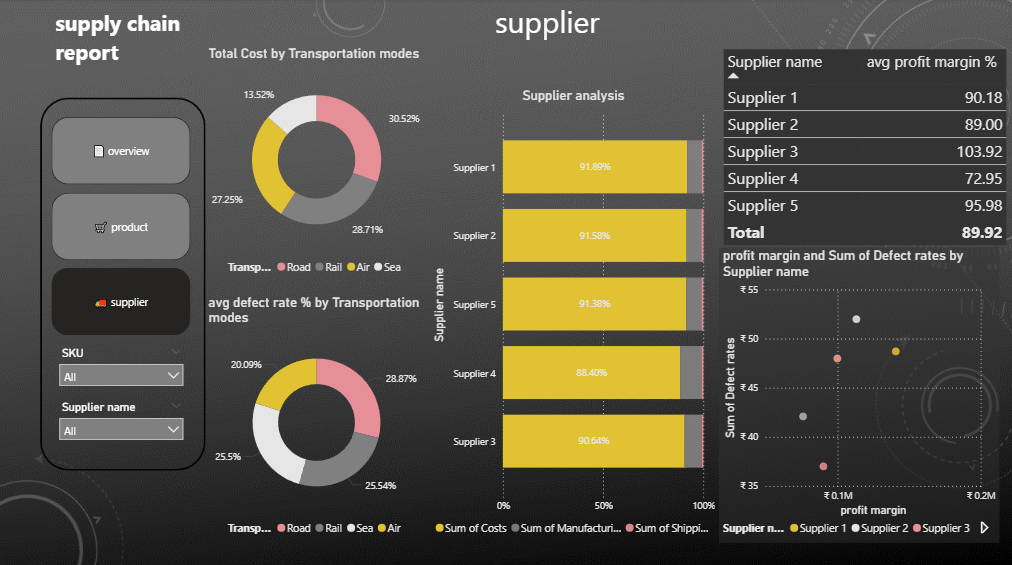

The dashboard page shown, as its layout file describes it:
{"tool":"powerbi","page":{"name":"🚚 supplier","canvas":[1280,720],"ordinal":2},"visuals":[{"type":"donutChart","fields":{"Y":["supply_chain_data.Total Cost"],"Category":["supply_chain_data.Transportation modes"]},"box":[258.9,60.5,281.6,298.6],"z":0},{"type":"pageNavigator","box":[66.1,151.1,175.7,275.9],"z":0,"group":"g1"},{"type":"textbox","box":[66.1,9.4,175.7,103.9],"z":1000,"group":"g1"},{"type":"donutChart","fields":{"Y":["supply_chain_data.avg defect rate %"],"Category":["supply_chain_data.Transportation modes"]},"box":[258.9,374.2,281.6,313.7],"z":1000},{"type":"hundredPercentStackedBarChart","title":" Supplier analysis","fields":{"Category":["supply_chain_data.Supplier name"],"Y":["Sum(supply_chain_data.Costs)","Sum(supply_chain_data.Manufacturing costs)","Sum(supply_chain_data.Shipping costs)"]},"box":[540.5,113.4,366.6,574.5],"z":2000},{"type":"slicer","fields":{"Values":["supply_chain_data.SKU"]},"box":[66.1,434.6,175.7,136.1],"z":2000,"group":"g1"},{"type":"tableEx","fields":{"Values":["supply_chain_data.Supplier name","supply_chain_data.avg profit margin %"]},"box":[907.1,60.5,372.3,275.9],"z":3000},{"type":"slicer","fields":{"Values":["supply_chain_data.Supplier name"]},"box":[66.1,502.6,175.7,136.1],"z":3000,"group":"g1"},{"type":"scatterChart","fields":{"X":["supply_chain_data.profit margin"],"Series":["supply_chain_data.Supplier name"],"Y":["Sum(supply_chain_data.Defect rates)"]},"box":[907.1,315.6,353.4,372.3],"z":4000},{"type":"textbox","box":[619.8,0,215.4,83.2],"z":5000},{"type":"group","id":"g1","title":"Group 1","box":[66.1,9.4,175.7,629.3],"z":5005}]}

Visuals, with their boxes in screenshot pixels (x1, y1, x2, y2), scaled from the page's 1280x720 canvas onto the 1012x565 screenshot:
donutChart - supply_chain_data.Total Cost x supply_chain_data.Transportation modes: BBox(205, 47, 427, 282)
pageNavigator: BBox(52, 119, 191, 335)
textbox: BBox(52, 7, 191, 89)
donutChart - supply_chain_data.avg defect rate % x supply_chain_data.Transportation modes: BBox(205, 294, 427, 540)
" Supplier analysis" hundredPercentStackedBarChart: BBox(427, 89, 717, 540)
slicer - supply_chain_data.SKU: BBox(52, 341, 191, 448)
tableEx - supply_chain_data.Supplier name x supply_chain_data.avg profit margin %: BBox(717, 47, 1011, 264)
slicer - supply_chain_data.Supplier name: BBox(52, 394, 191, 501)
scatterChart - supply_chain_data.profit margin x supply_chain_data.Supplier name: BBox(717, 248, 997, 540)
textbox: BBox(490, 0, 660, 65)
"Group 1" group: BBox(52, 7, 191, 501)
